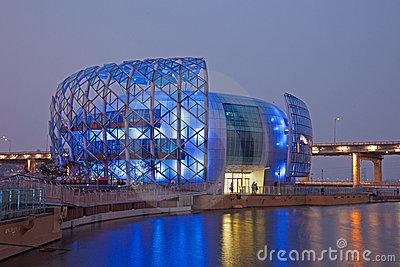affected: (43, 57, 318, 184)
